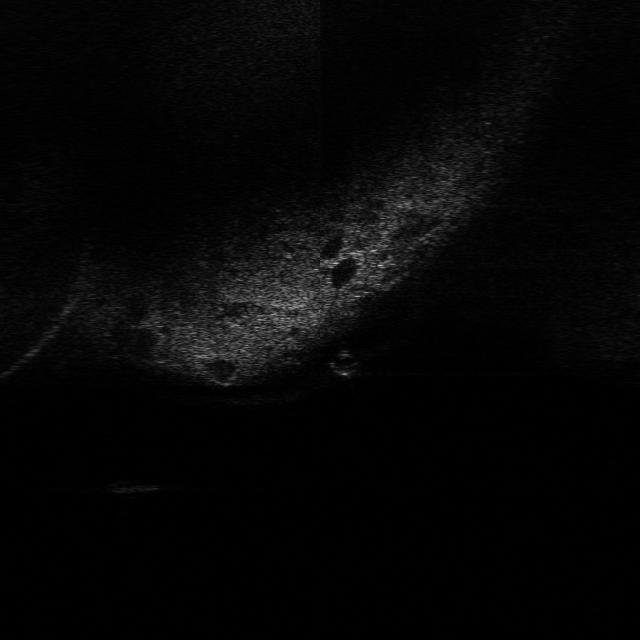ball: (324, 345, 367, 381)
cube: (100, 473, 160, 498)
